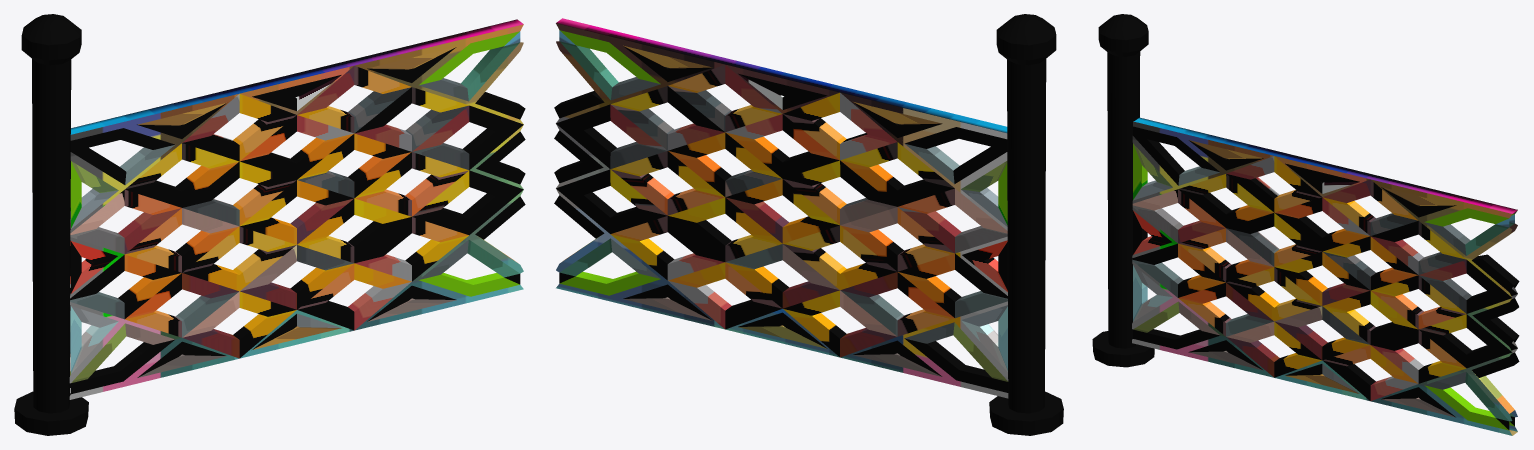
The model's file is Fence_5.FBX.
The picture shows the model from 3 angles, left to right: view 1: azimuth 30°, elevation 25°; view 2: azimuth 150°, elevation 25°; view 3: azimuth 330°, elevation 25°; orthographic projection. The views are drawn at different scales.
Parts seen in each view (by area): view 1: Fence_5; view 2: Fence_5; view 3: Fence_5.
Boxes of the visible parts, x1=… form: Fence_5: x1=14, y1=14, x2=525, y2=435; Fence_5: x1=554, y1=14, x2=1063, y2=435; Fence_5: x1=1092, y1=14, x2=1519, y2=435.
Bounding box in the file's own units: 154 × 119 × 20.26.
Materials: 1 (1 with a texture image).
